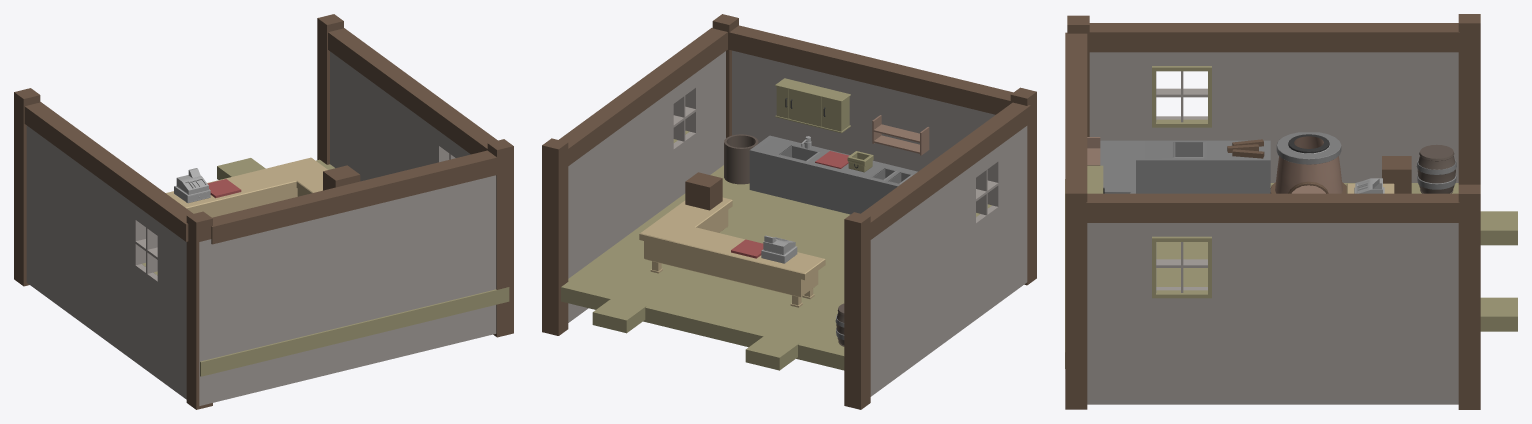
The model's file is myo_MainMap_Wall_add.fbx.
3 renders of one model, left to right at view 1: azimuth 30°, elevation 25°; view 2: azimuth 150°, elevation 25°; view 3: azimuth 270°, elevation 25°, orthographic. The views are drawn at different scales.
Visible parts, largest first — view 1: polySurface4, polySurface23, polySurface59, polySurface43, polySurface44, Ground, main_table, polySurface8, polySurface7, polySurface5, store, close (+1 smaller); view 2: polySurface59, polySurface23, Ground, polySurface4, main_table, polySurface43, polySurface44, polySurface5, polySurface52, chest, polySurface56, polySurface7 (+8 smaller); view 3: polySurface59, polySurface23, polySurface44, polySurface8, polySurface45, polySurface5, polySurface58, polySurface43, polySurface50, Ground, polySurface51, barrel02 (+6 smaller).
Boxes of the visible parts, x1,y1,x2,y2 form: polySurface4: (199,175,496,405); polySurface23: (26,125,186,399); polySurface59: (317,14,497,181); polySurface43: (211,150,503,244); polySurface44: (24,102,193,241); Ground: (200,159,509,376); main_table: (166,157,327,217); polySurface8: (487,139,513,337); polySurface7: (186,211,212,409); polySurface5: (14,88,40,286); store: (323,165,360,190); close: (217,158,265,179); polySurface59: (542,28,727,335); polySurface23: (870,126,1027,396); Ground: (561,165,850,370); polySurface4: (732,50,995,171); main_table: (639,197,825,307); polySurface43: (728,25,1013,114); polySurface44: (861,102,1030,239); polySurface5: (844,212,870,409); polySurface52: (749,135,826,203); chest: (775,78,850,133); polySurface56: (807,149,886,214); polySurface7: (1010,87,1036,285); polySurface59: (1086,184,1480,409); polySurface23: (1089,52,1458,182); polySurface44: (1089,23,1459,52); polySurface8: (1065,184,1087,409); polySurface45: (1270,132,1346,193); polySurface5: (1458,14,1480,184); polySurface58: (1136,140,1207,193); polySurface43: (1065,32,1087,184); polySurface50: (1208,140,1270,193); Ground: (1065,179,1458,368); polySurface51: (1100,140,1135,191); barrel02: (1416,144,1456,193).
Size of the model in its own units: 1164 by 649 by 1234.
